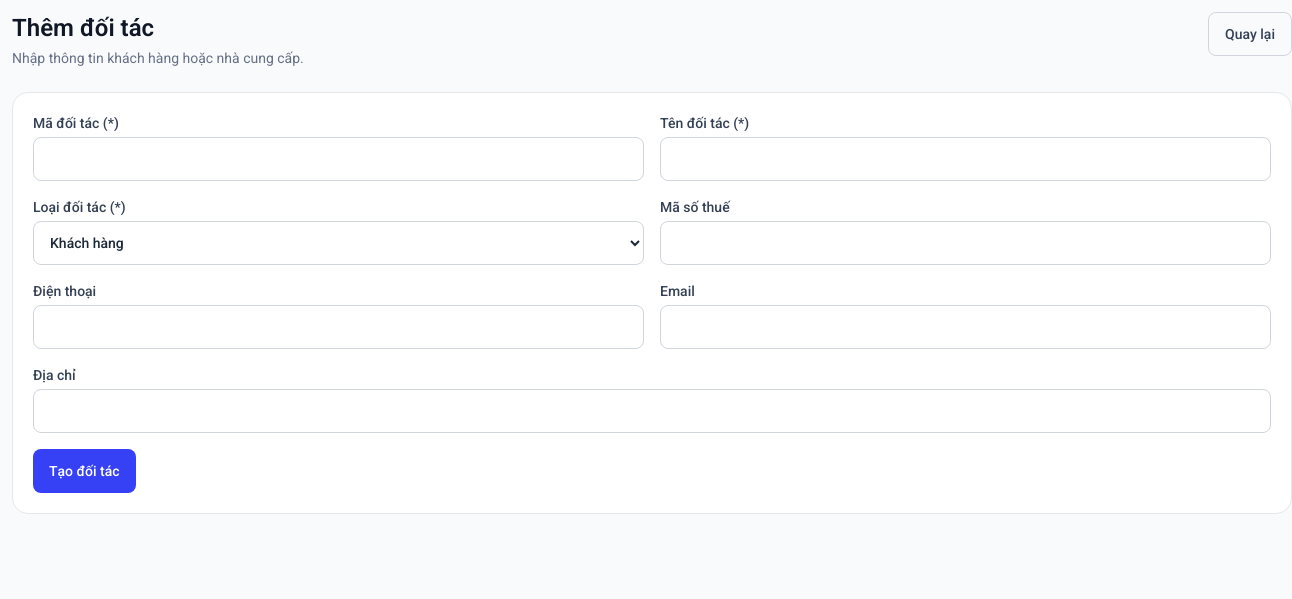
Test: PartnersPage › creates a supplier from a dedicated form screen
Type "SUP-1" into the field labelled "Mã đối tác (*)" at x=338, y=159, box [33,137,644,181]
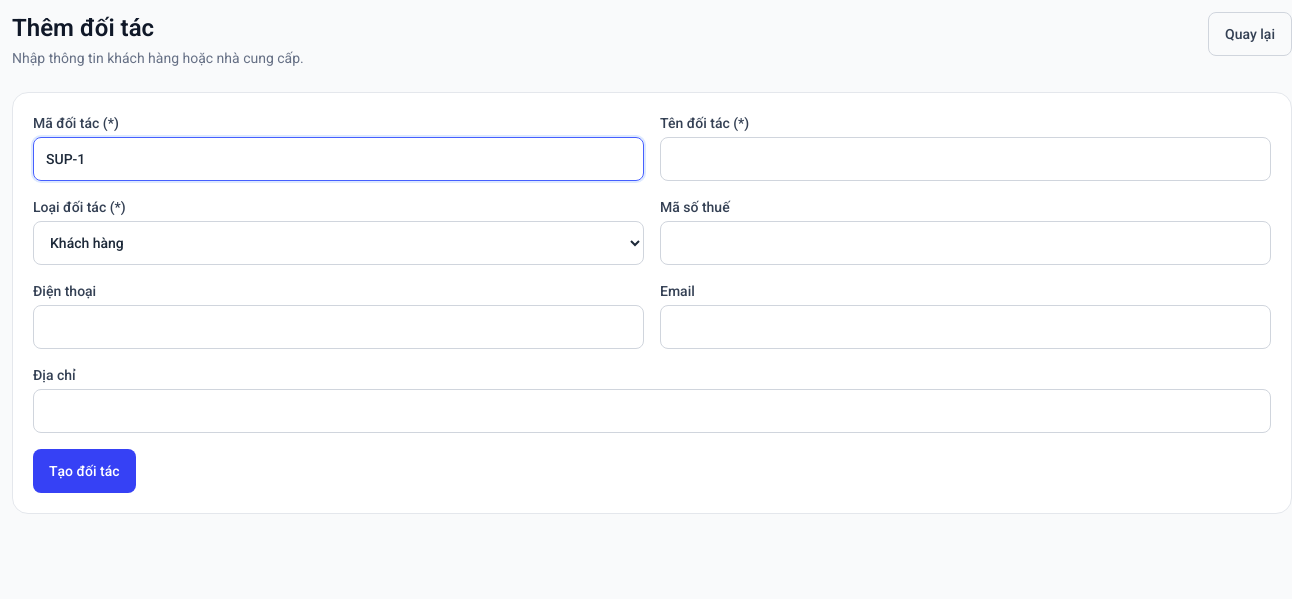
Type "Nhà cung cấp 1" into the field labelled "Tên đối tác (*)" at x=966, y=159, box [660,137,1271,181]
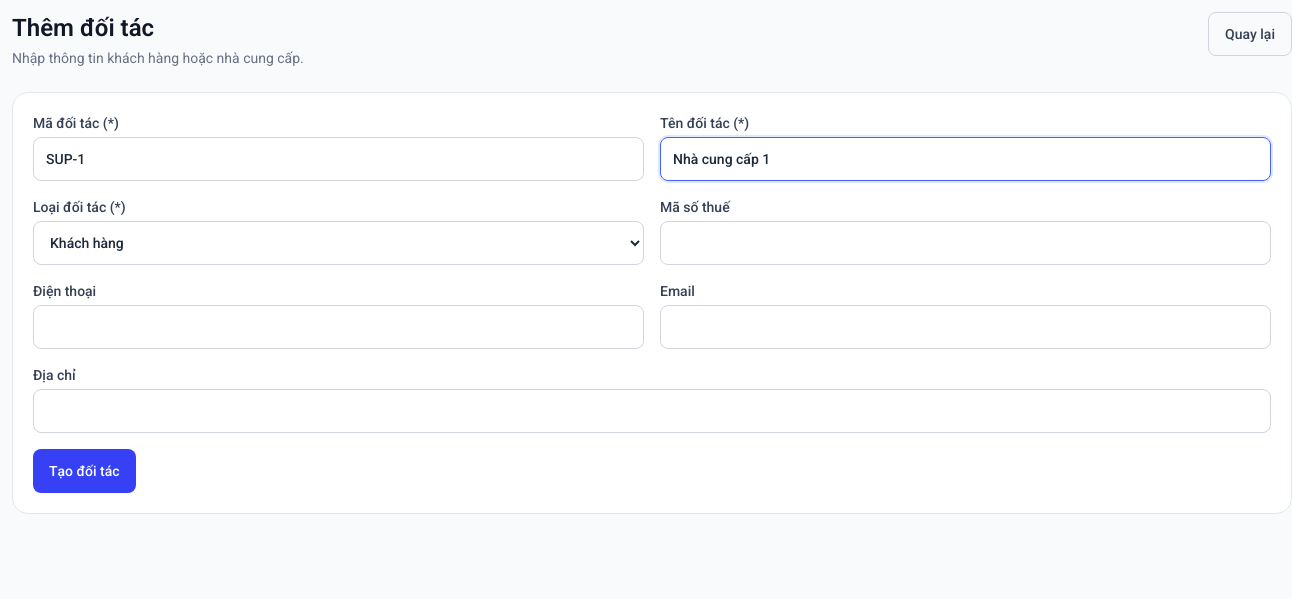
Select "Nhà cung cấp" in the dropdown labelled "Loại đối tác (*)" at x=338, y=243, box [33,221,644,265]
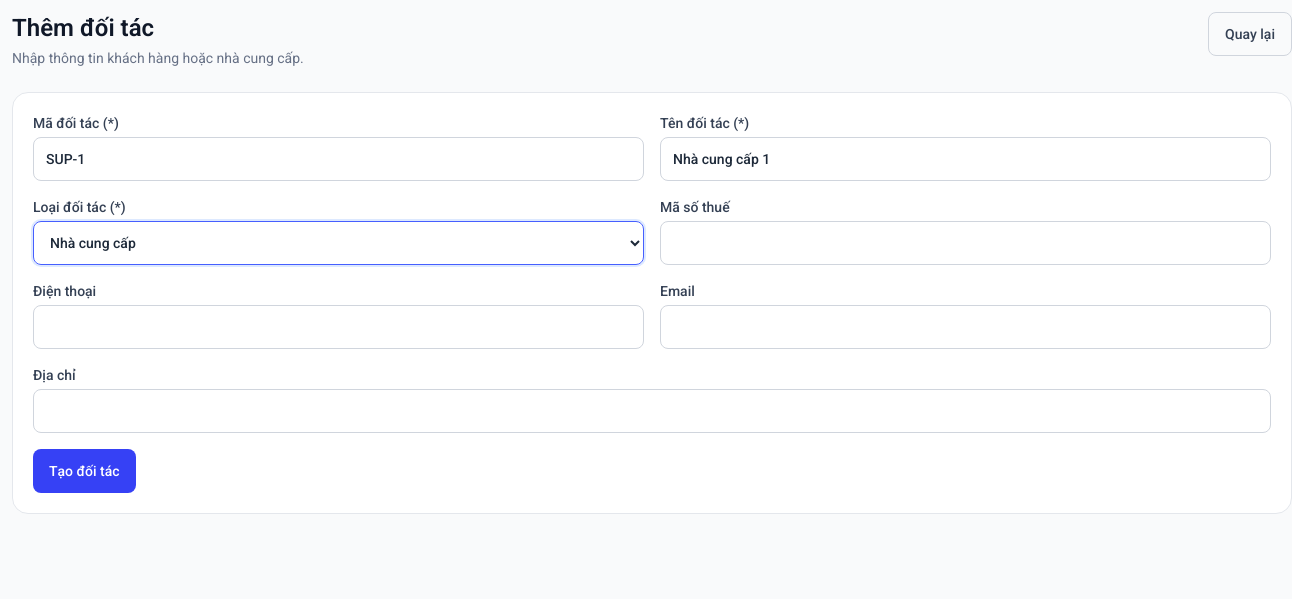
Type "0900000000" into the field labelled "Điện thoại" at x=338, y=327, box [33,305,644,349]
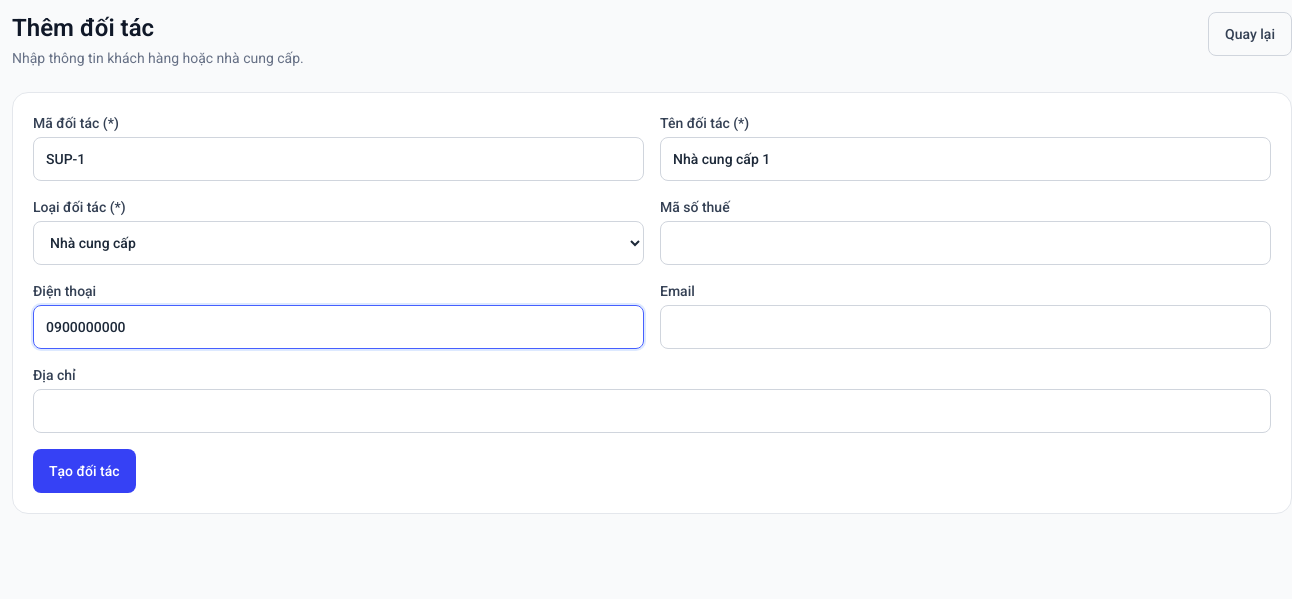
Click the button "Tạo đối tác" at x=84, y=471, box [33,449,136,493]
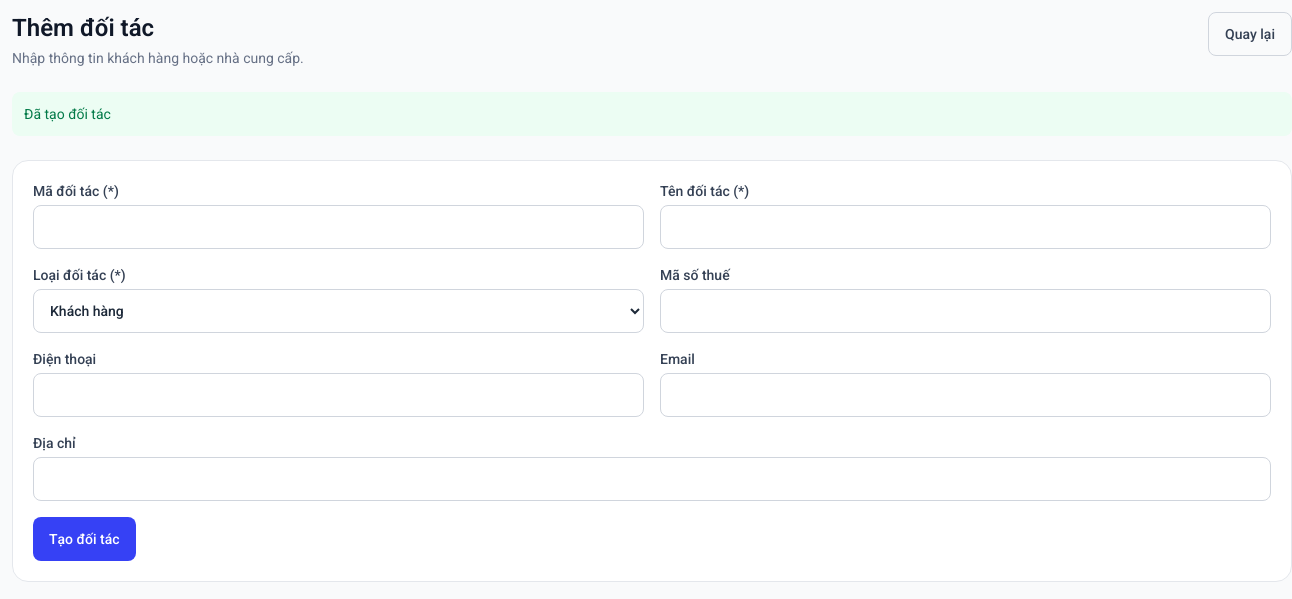
expect the text "Đã tạo đối tác" is shown: met, box [12,92,1291,136]
